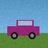vehicle: (7, 20, 39, 39)
